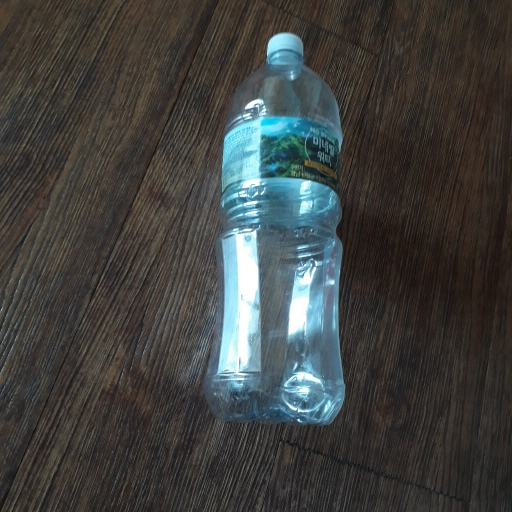Plastic_0: (204, 30, 350, 427)
